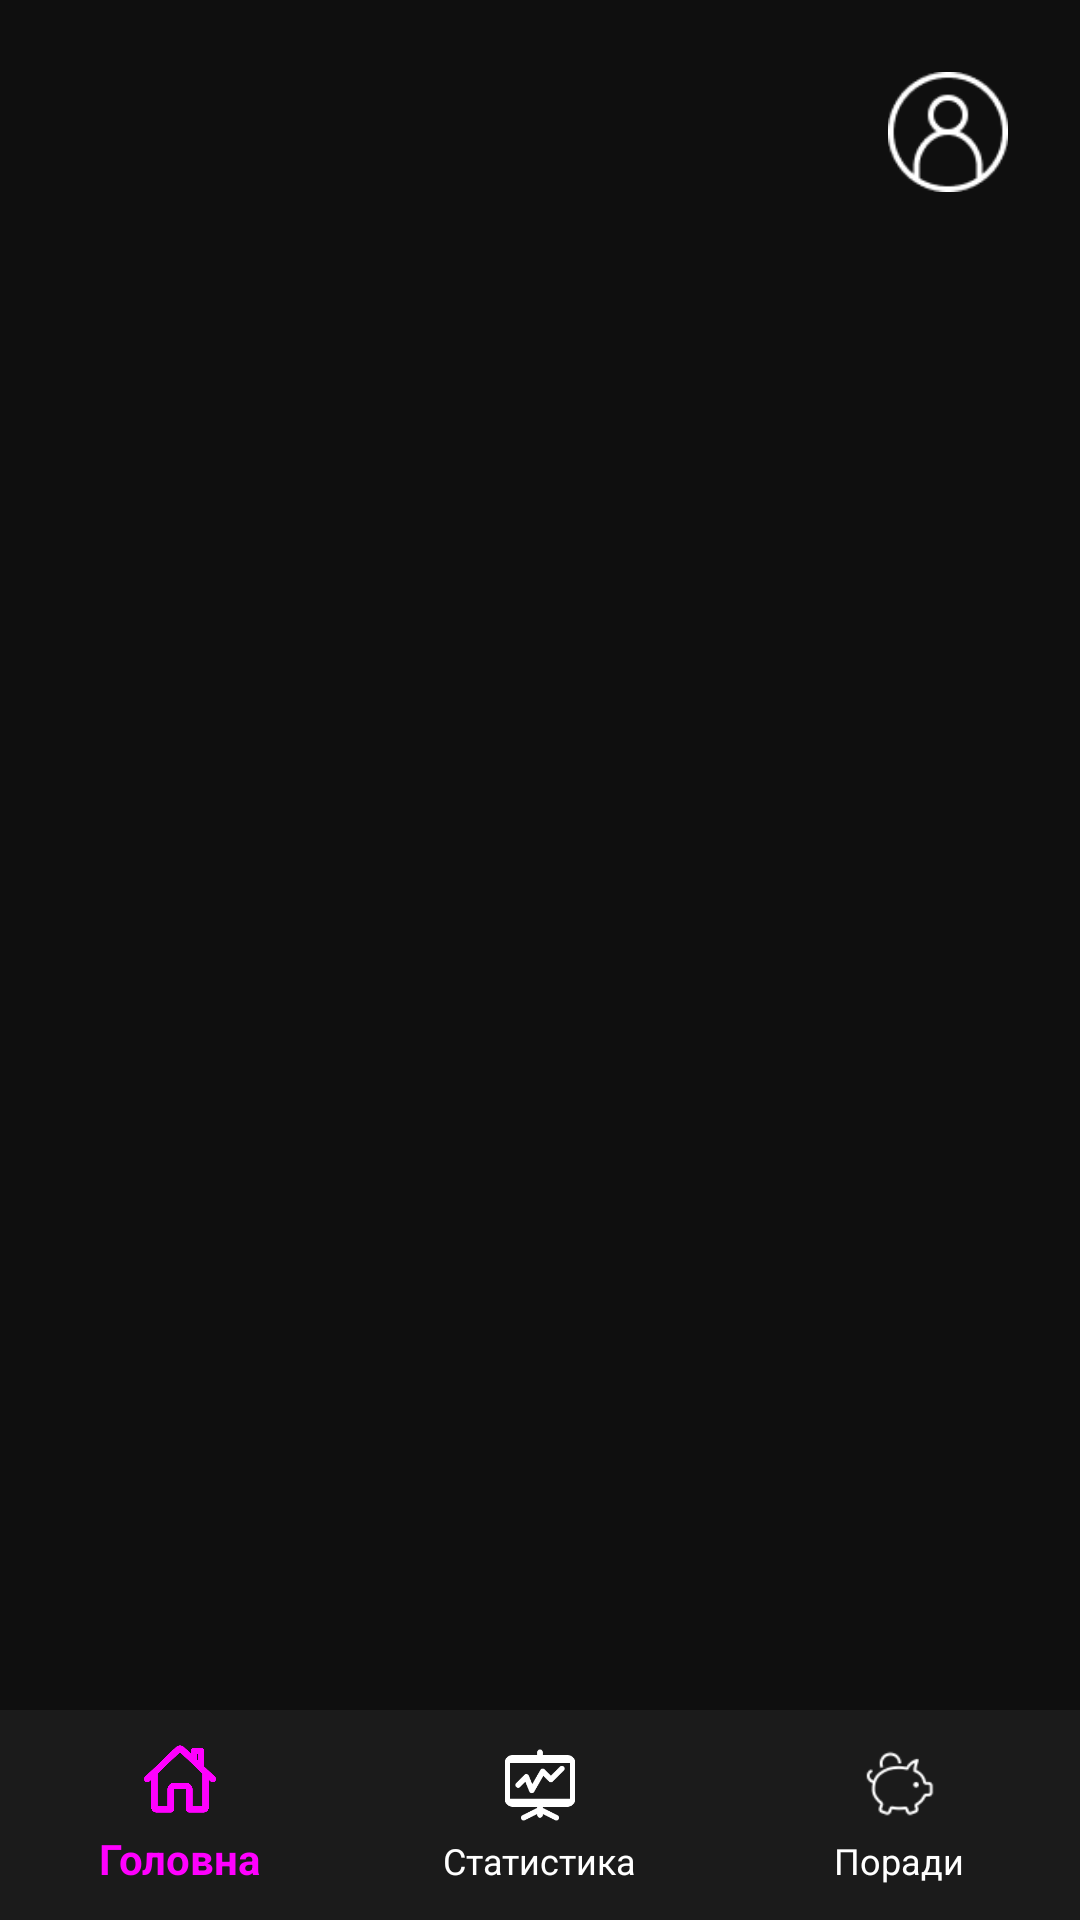

Icon bounding boxes for this 1080px×1920px phone screenshot, format (x1, y1, x2, y2):
profile: (888, 72, 1008, 192)
